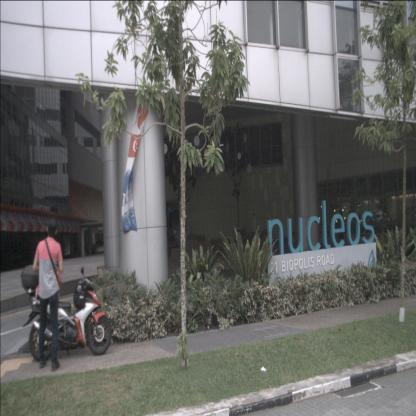human-pedestrian-adult: (32, 218, 64, 372)
vehicle-car: (365, 210, 390, 228)
vehicle-motorcycle: (21, 264, 112, 362)
